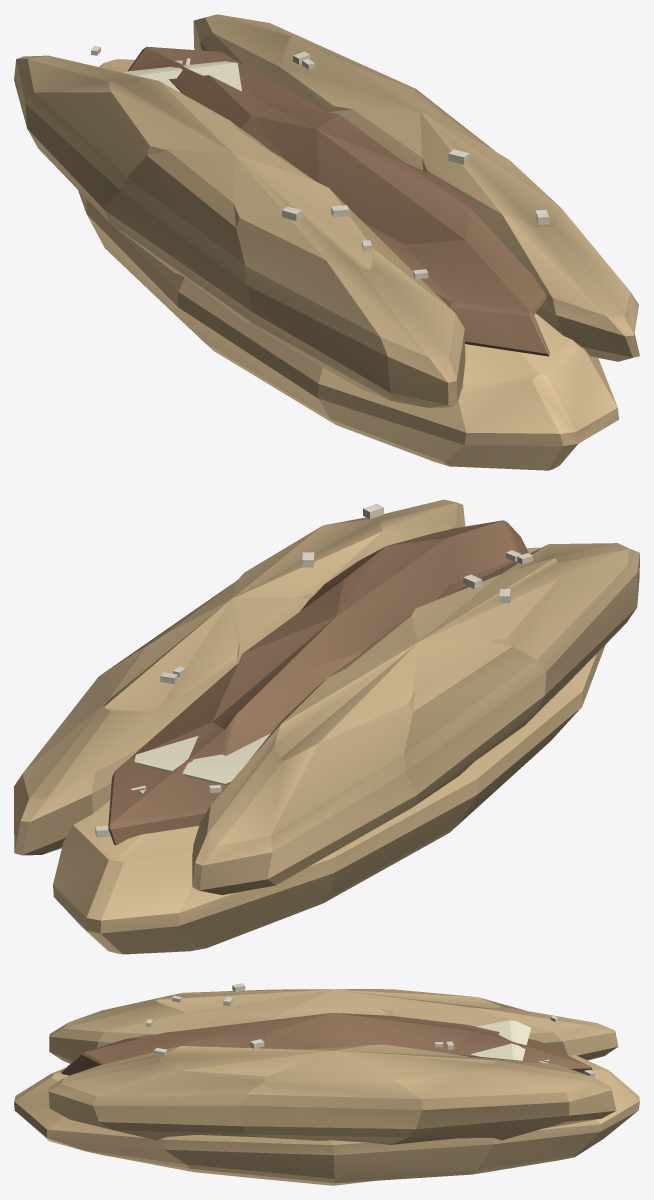
File: cheesesteak_5d82b8.glb
3 renders of one model, top to bottom at view 1: azimuth 30°, elevation 25°; view 2: azimuth 150°, elevation 25°; view 3: azimuth 270°, elevation 25°, orthographic. The views are drawn at different scales.
Visible parts, largest first — view 1: Steak_Roll_L, Steak_Bun, Steak_Roll_R, Steak_Meat, Steak_Seeds, Steak_Cheese; view 2: Steak_Roll_L, Steak_Roll_R, Steak_Bun, Steak_Meat, Steak_Cheese, Steak_Seeds; view 3: Steak_Roll_R, Steak_Bun, Steak_Roll_L, Steak_Meat, Steak_Cheese, Steak_Seeds.
Part boxes in pixels (x1,y1,x2,y2): Steak_Roll_L: (14,55,465,407); Steak_Bun: (78,59,618,470); Steak_Roll_R: (193,14,639,361); Steak_Meat: (127,46,549,356); Steak_Seeds: (91,46,549,279); Steak_Cheese: (121,60,241,92); Steak_Roll_L: (192,543,639,894); Steak_Roll_R: (14,499,465,855); Steak_Bun: (53,547,605,954); Steak_Meat: (108,520,528,845); Steak_Cheese: (133,733,270,784); Steak_Seeds: (95,504,532,837); Steak_Roll_R: (48,1044,616,1144); Steak_Bun: (14,1055,639,1185); Steak_Roll_L: (49,989,618,1063); Steak_Meat: (61,1013,592,1075); Steak_Cheese: (470,1020,531,1060); Steak_Seeds: (145,983,595,1077).
Size of the model in its own units: 0.1165 by 0.0812 by 0.3032.
